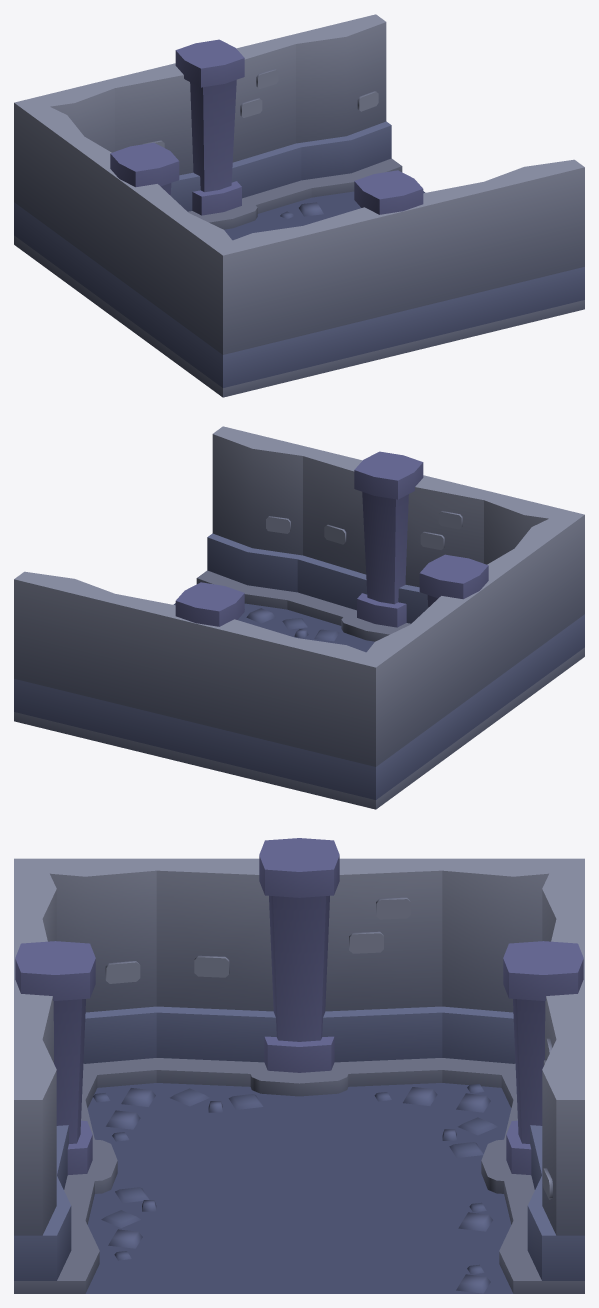
File: corridor-wide-end.fbx
3 views of the same model, one above another, from view 1: azimuth 30°, elevation 25°; view 2: azimuth 150°, elevation 25°; view 3: azimuth 270°, elevation 25° (orthographic). The views are drawn at different scales.
Parts seen in each view (by area): view 1: corridor-wide-end; view 2: corridor-wide-end; view 3: corridor-wide-end.
Boxes of the visible parts, left/top/right/bottom form: corridor-wide-end: left=14, top=14, right=584, bottom=397; corridor-wide-end: left=14, top=426, right=584, bottom=809; corridor-wide-end: left=14, top=838, right=584, bottom=1293.
Size of the model in its own units: 800 by 333 by 800.
Materials: 1 (1 with a texture image).
